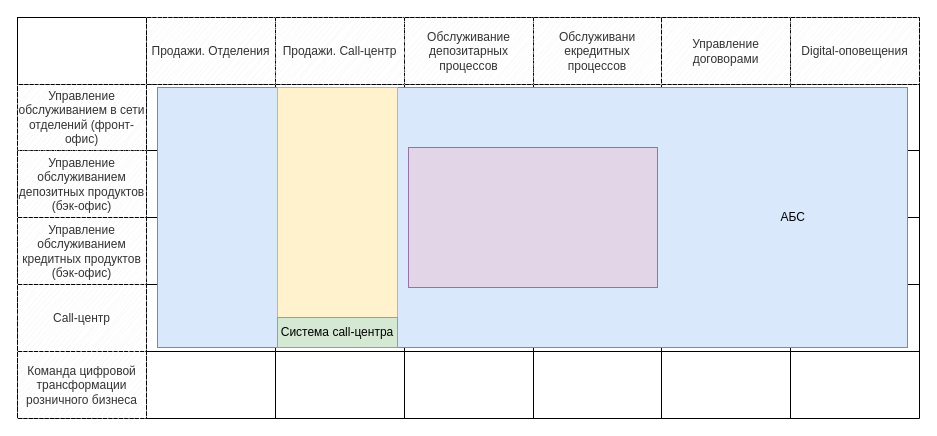
The diagram is 937 pixels wide and 436 high, and some of its shapes have lost their labels. The shapes that lost their labels are listed below. From the top down, each one's centre as x and y in pixels, then its label:
(x=337, y=202): СМС-шлюз Email
(x=533, y=217): Excel
